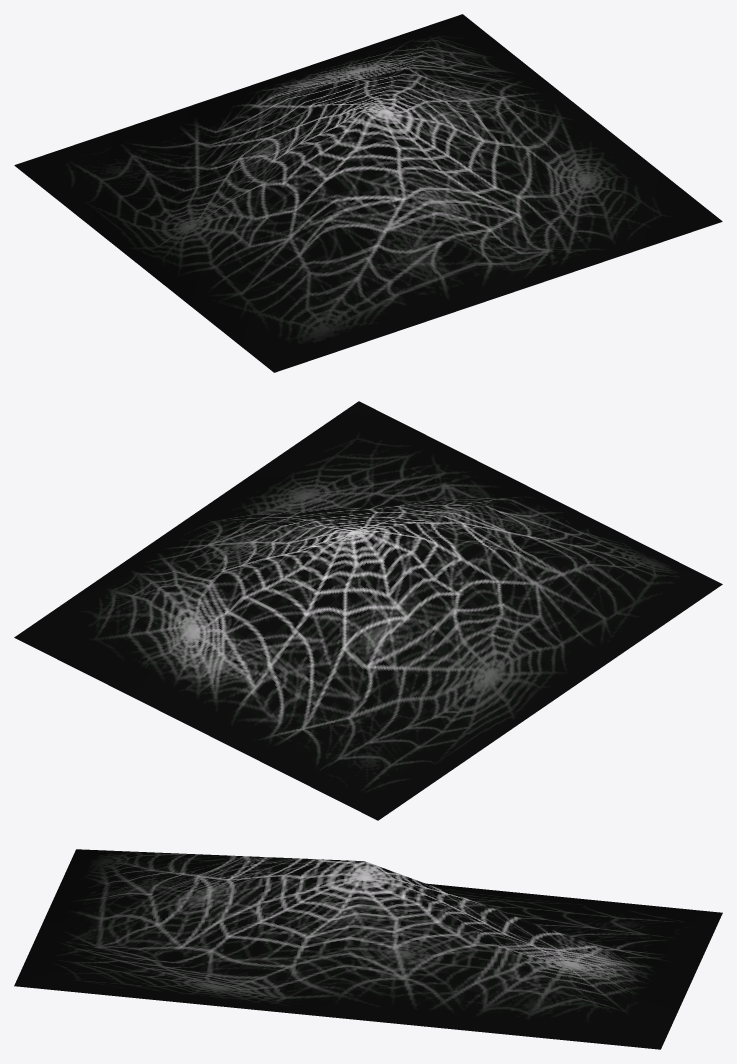
Rendered from MIRKWOOD_PLANE27.fbx.
3 views of the same model, one above another, from view 1: azimuth 30°, elevation 25°; view 2: azimuth 150°, elevation 25°; view 3: azimuth 270°, elevation 25° (orthographic). The views are drawn at different scales.
Parts seen in each view (by area): view 1: MIRKWOOD_PLANE27; view 2: MIRKWOOD_PLANE27; view 3: MIRKWOOD_PLANE27.
Boxes of the visible parts, x1,y1,x2,y2 form: MIRKWOOD_PLANE27: [14, 14, 722, 372]; MIRKWOOD_PLANE27: [14, 401, 722, 820]; MIRKWOOD_PLANE27: [14, 849, 722, 1049].
Bounding box in the file's own units: 218524 × 60388 × 275869.
Materials: 1 (1 with a texture image).
